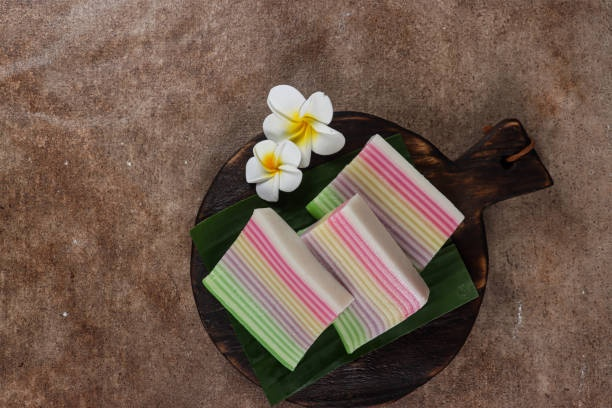kue_lapis_pelangi: (201, 209, 355, 369), (294, 190, 430, 356)
